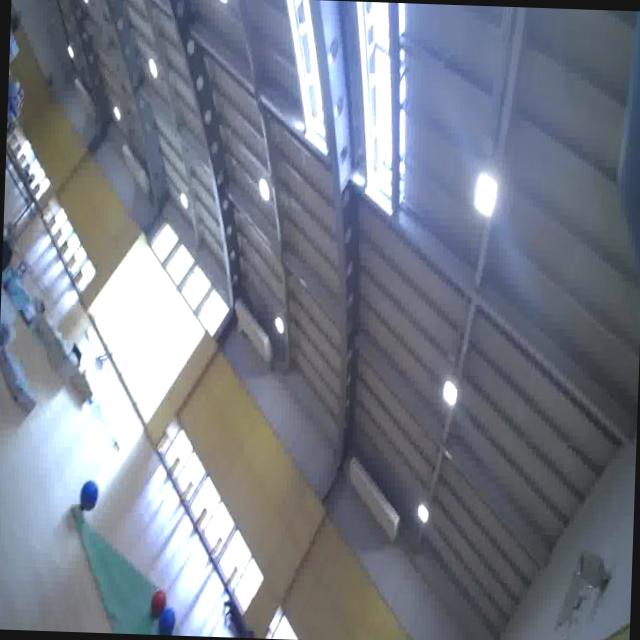blue_ball: (156, 606, 177, 635), (80, 479, 98, 510)
red_ball: (150, 587, 166, 614)
